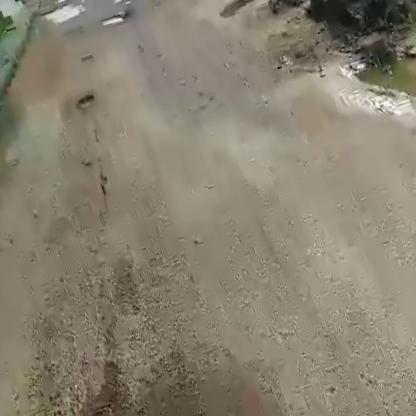pothole: (36, 0, 88, 29), (98, 9, 130, 30), (73, 90, 98, 112)
